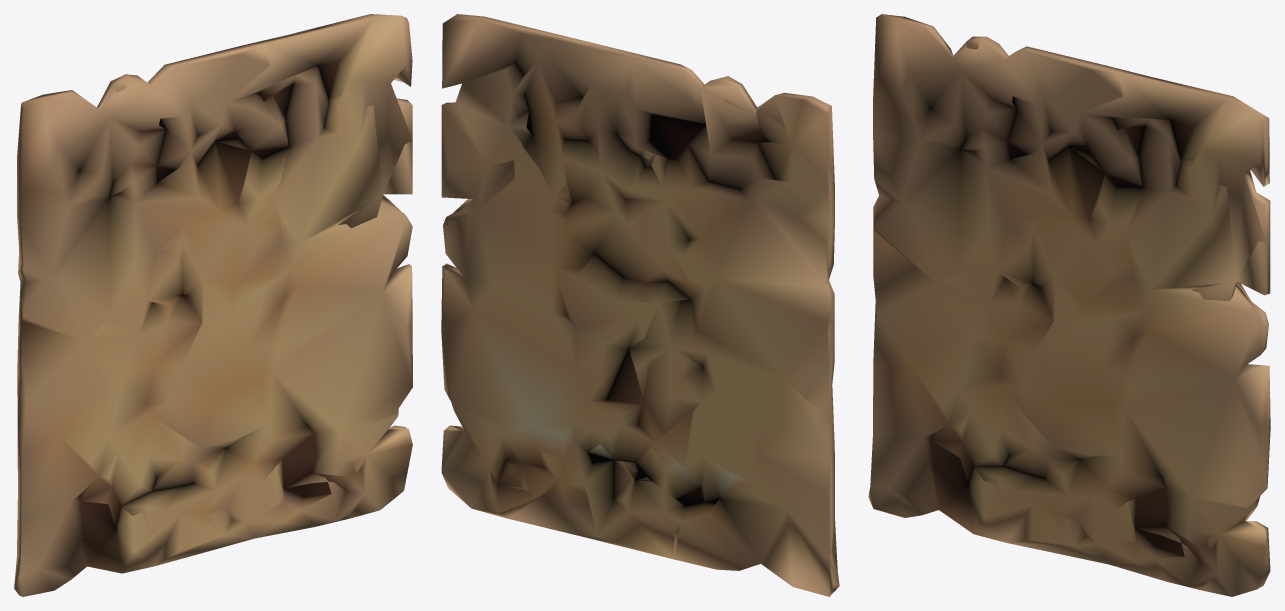
Rendered from gen3d-wanted-poster-lod1.glb.
3 renders of one model, left to right at view 1: azimuth 30°, elevation 25°; view 2: azimuth 150°, elevation 25°; view 3: azimuth 330°, elevation 25°, orthographic.
Visible parts, largest first — view 1: part_0; view 2: part_0; view 3: part_0.
Part boxes in pixels (x1,y1,x2,y2): part_0: [14, 14, 412, 596]; part_0: [441, 14, 839, 596]; part_0: [868, 14, 1270, 596].
Size of the model in its own units: 0.84 by 0.9998 by 0.0224.
